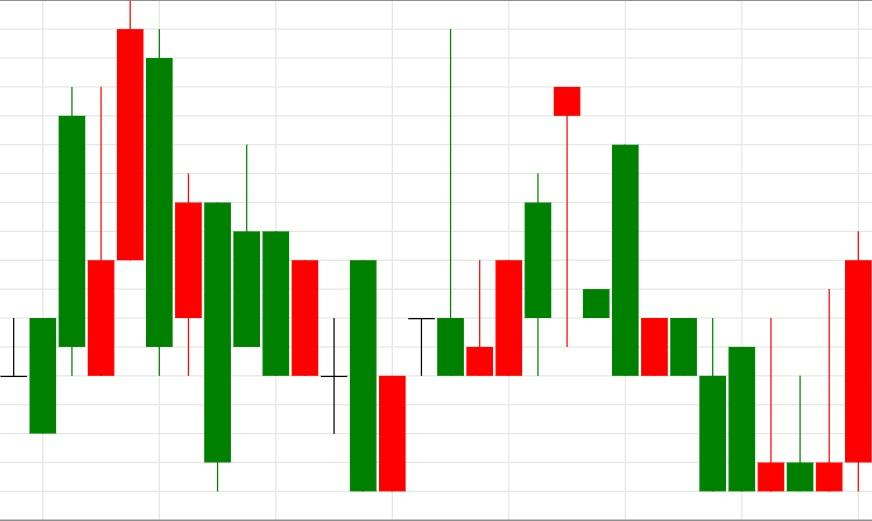hanging_man_fall: (349, 30, 581, 492)
inverse_hammer_rise: (612, 143, 843, 492), (612, 144, 814, 492), (612, 144, 786, 492)
